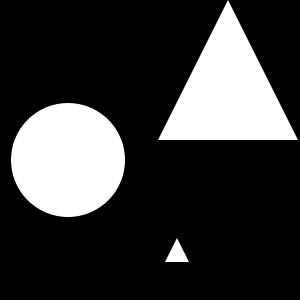rectangle: (11, 103, 125, 217)
triangle: (158, 0, 298, 140), (165, 238, 189, 262)
